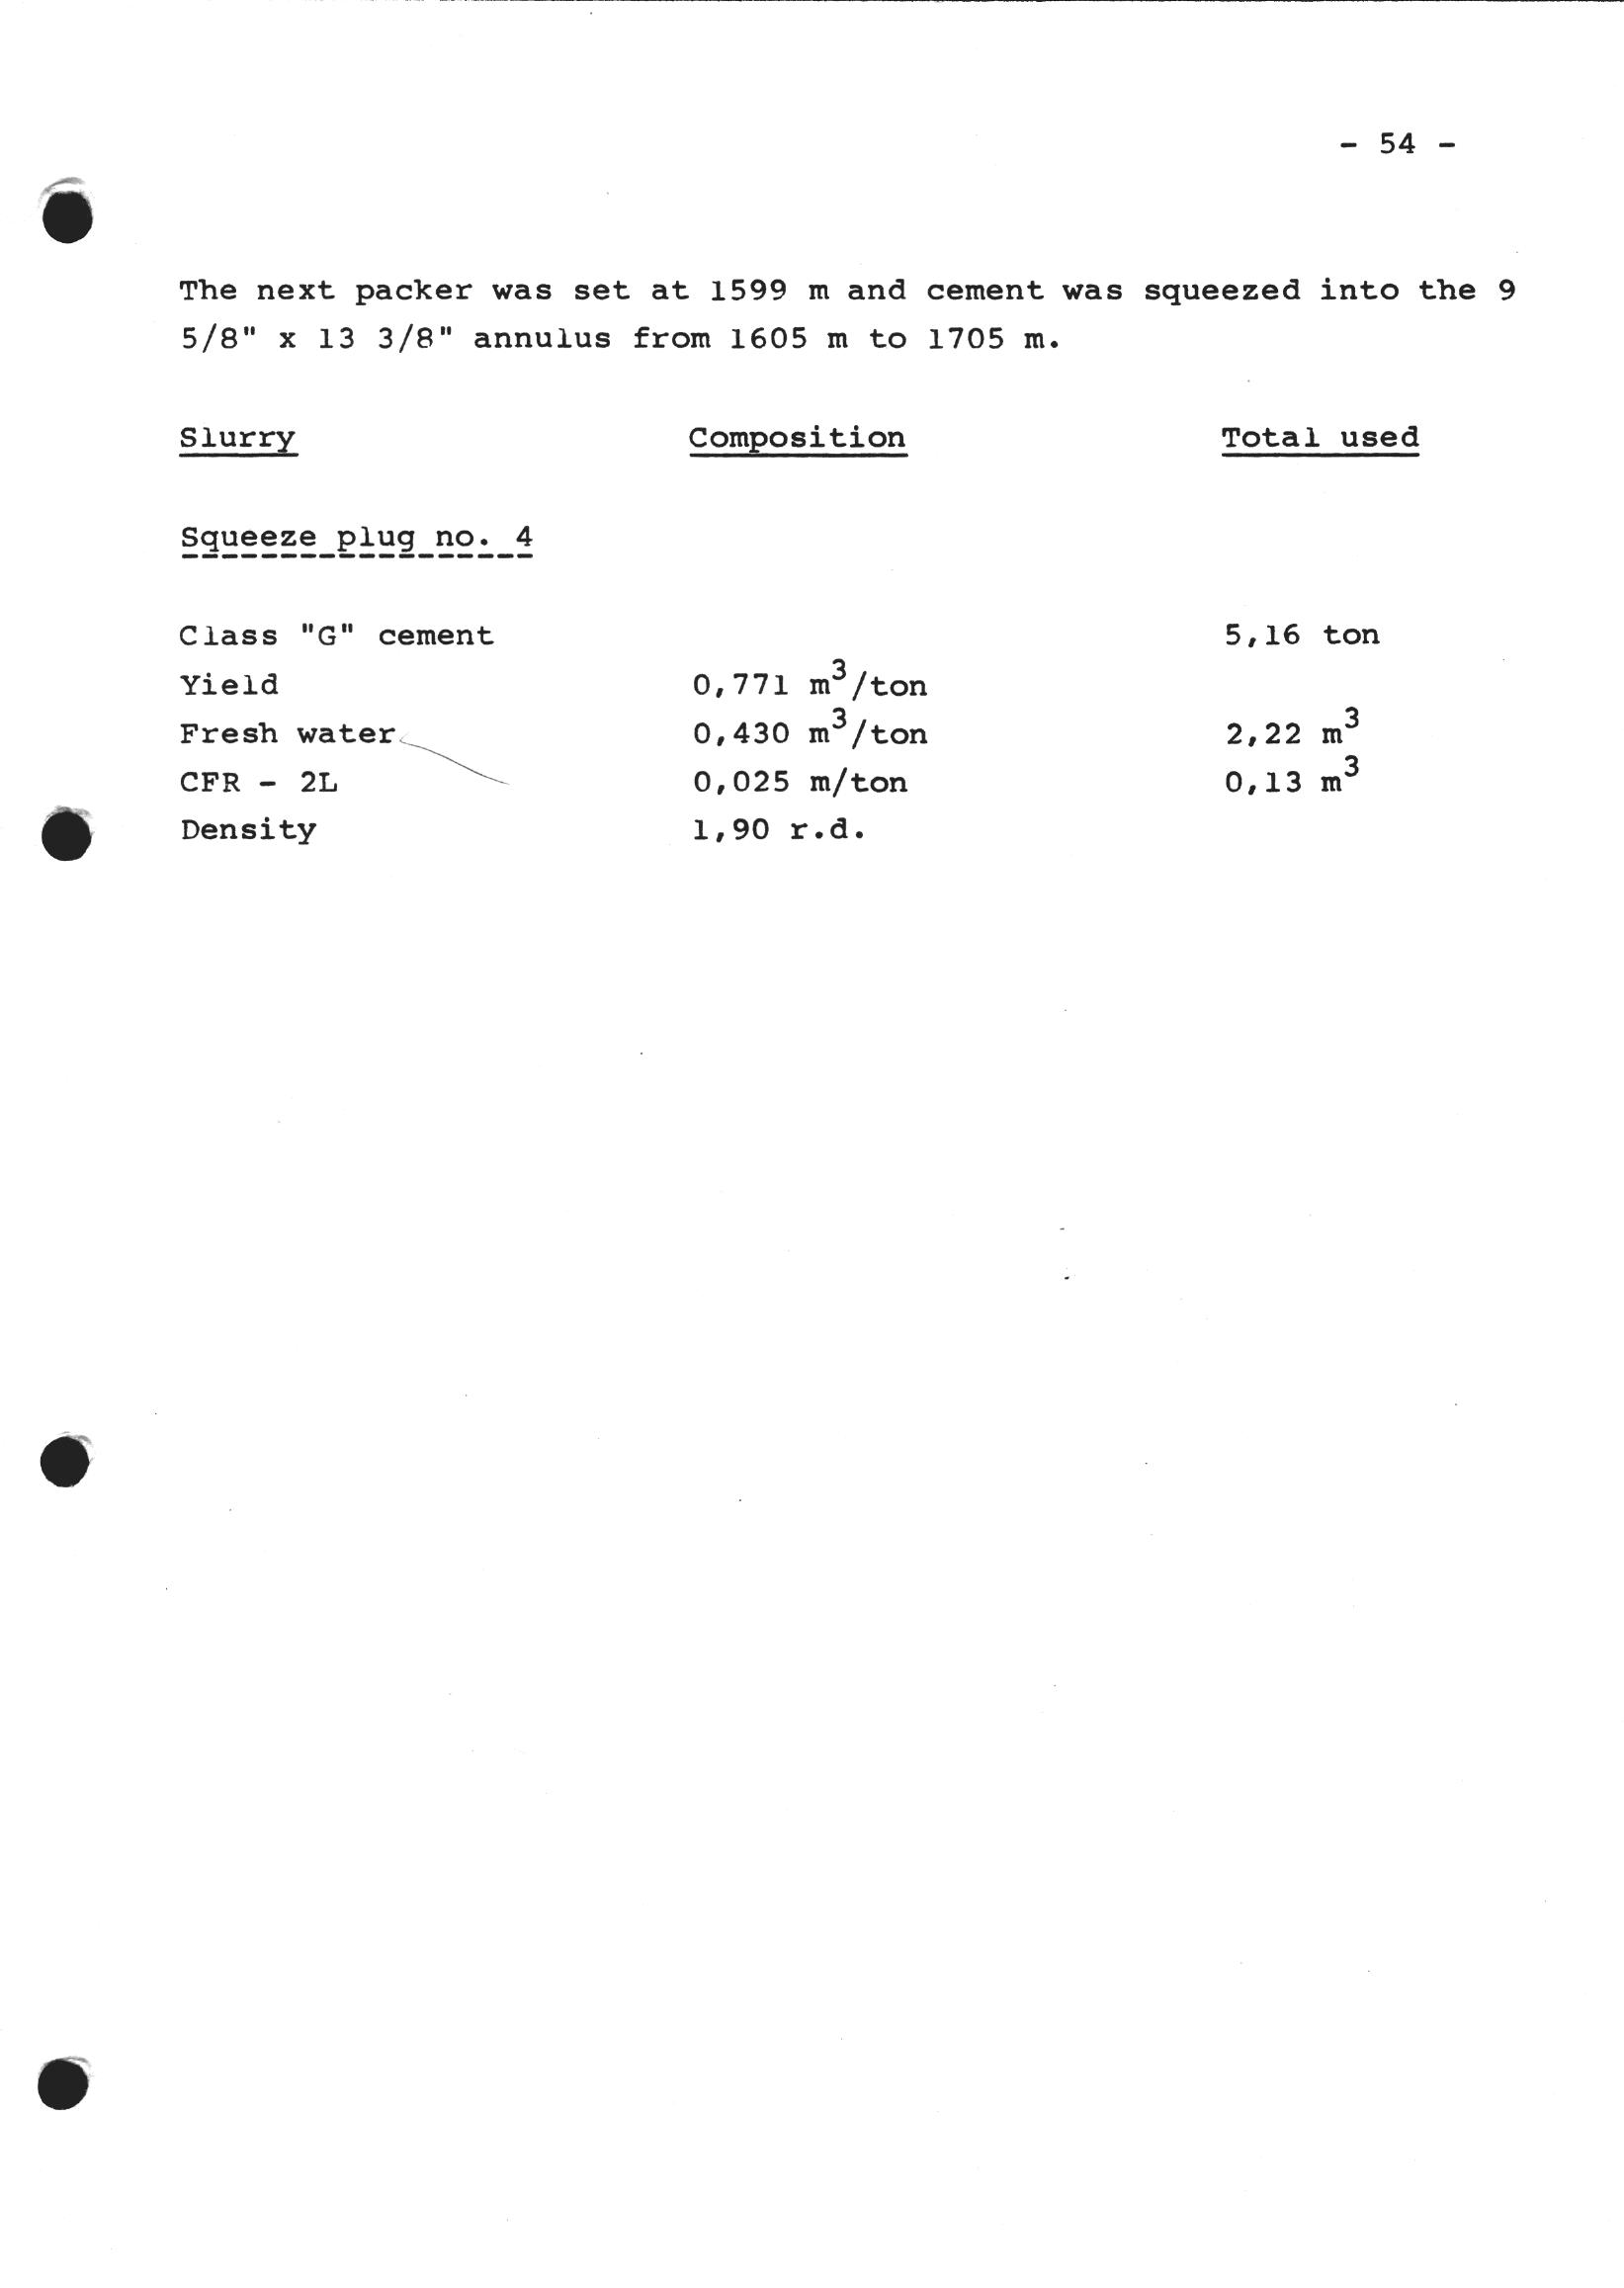table: (130, 420, 1469, 900)
text: (142, 244, 1527, 373)
